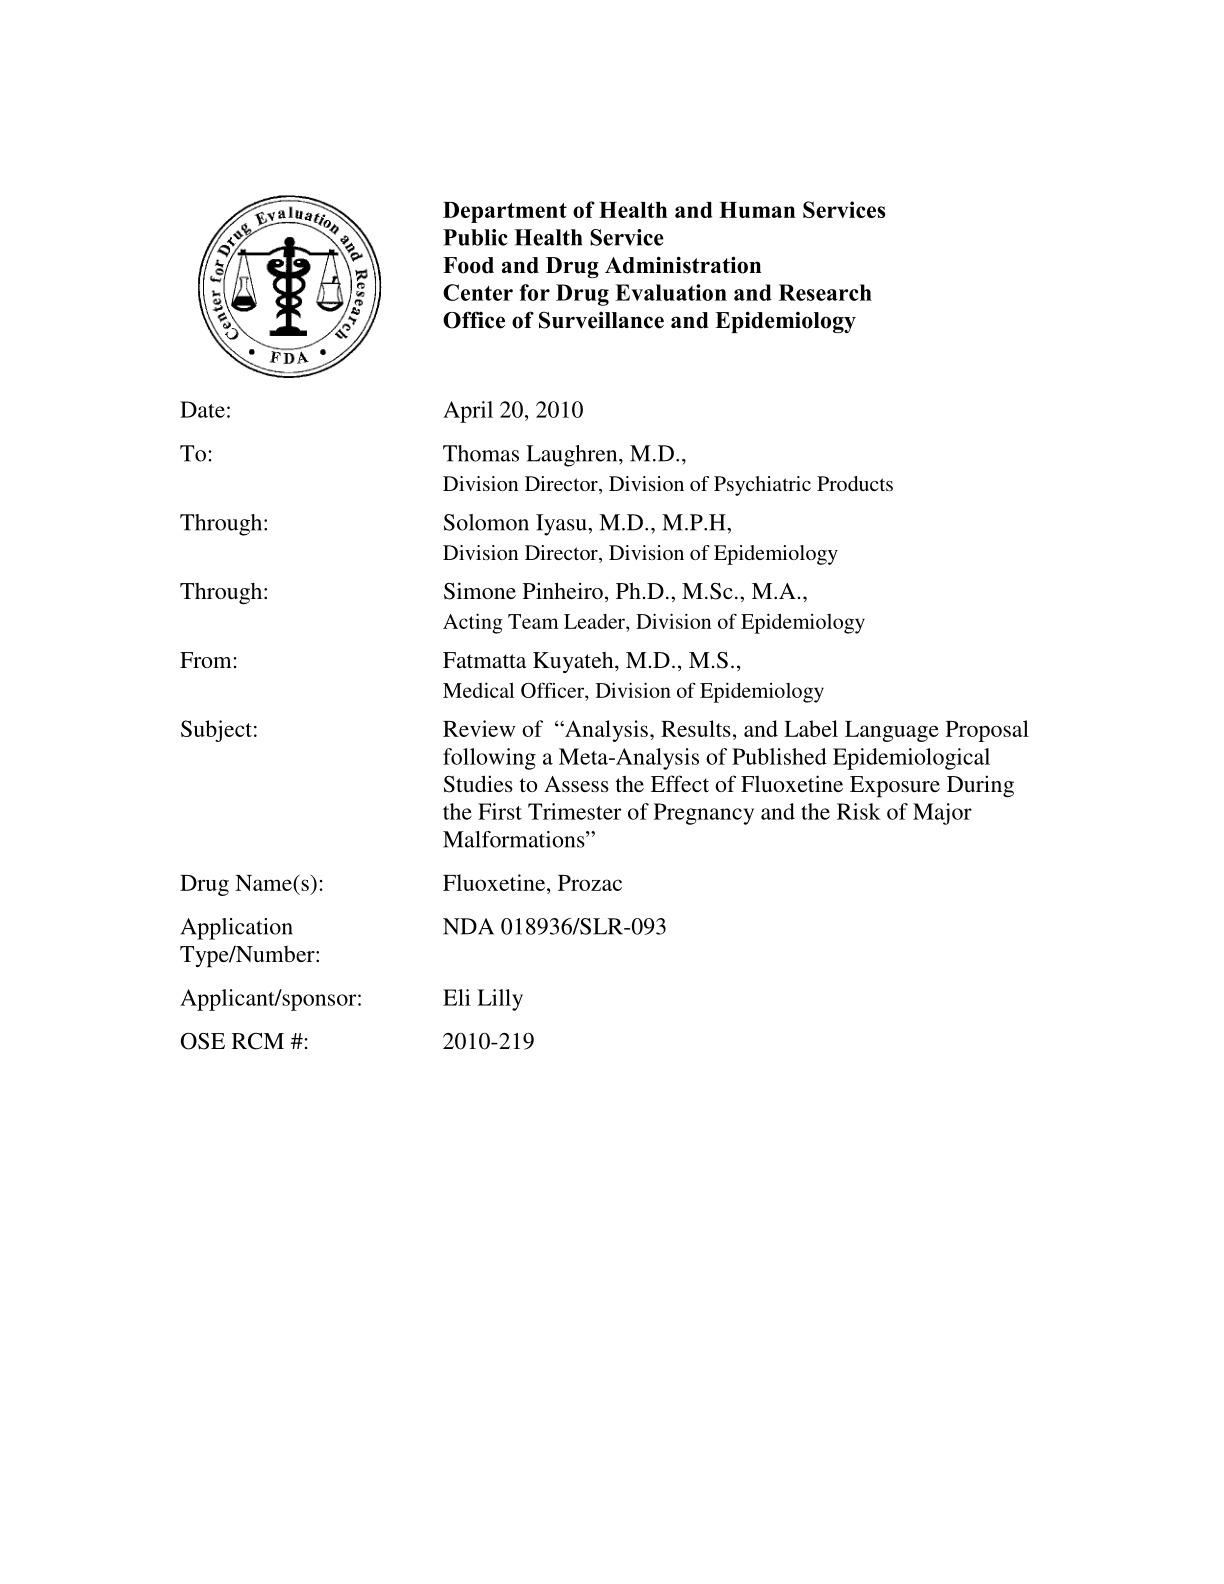nolines: (175, 396, 1026, 1056)
